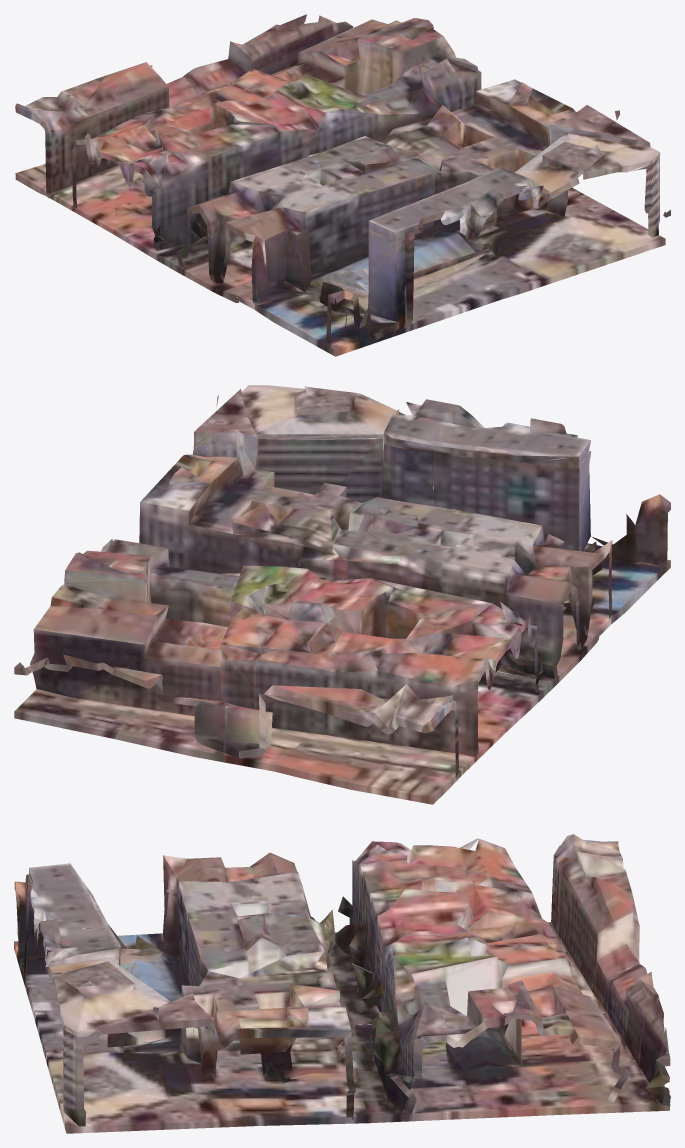
3 views of the same model, one above another, from view 1: azimuth 30°, elevation 25°; view 2: azimuth 150°, elevation 25°; view 3: azimuth 270°, elevation 25° (orthographic). The views are drawn at different scales.
Visible parts, largest first — view 1: Mesh_0; view 2: Mesh_0; view 3: Mesh_0.
Boxes of the visible parts, x1=… form: Mesh_0: x1=15, y1=14, x2=670, y2=356; Mesh_0: x1=14, y1=385, x2=670, y2=804; Mesh_0: x1=14, y1=834, x2=670, y2=1133.
Bounding box in the file's own units: 136 × 38.41 × 165.
Materials: 1 (1 with a texture image).
